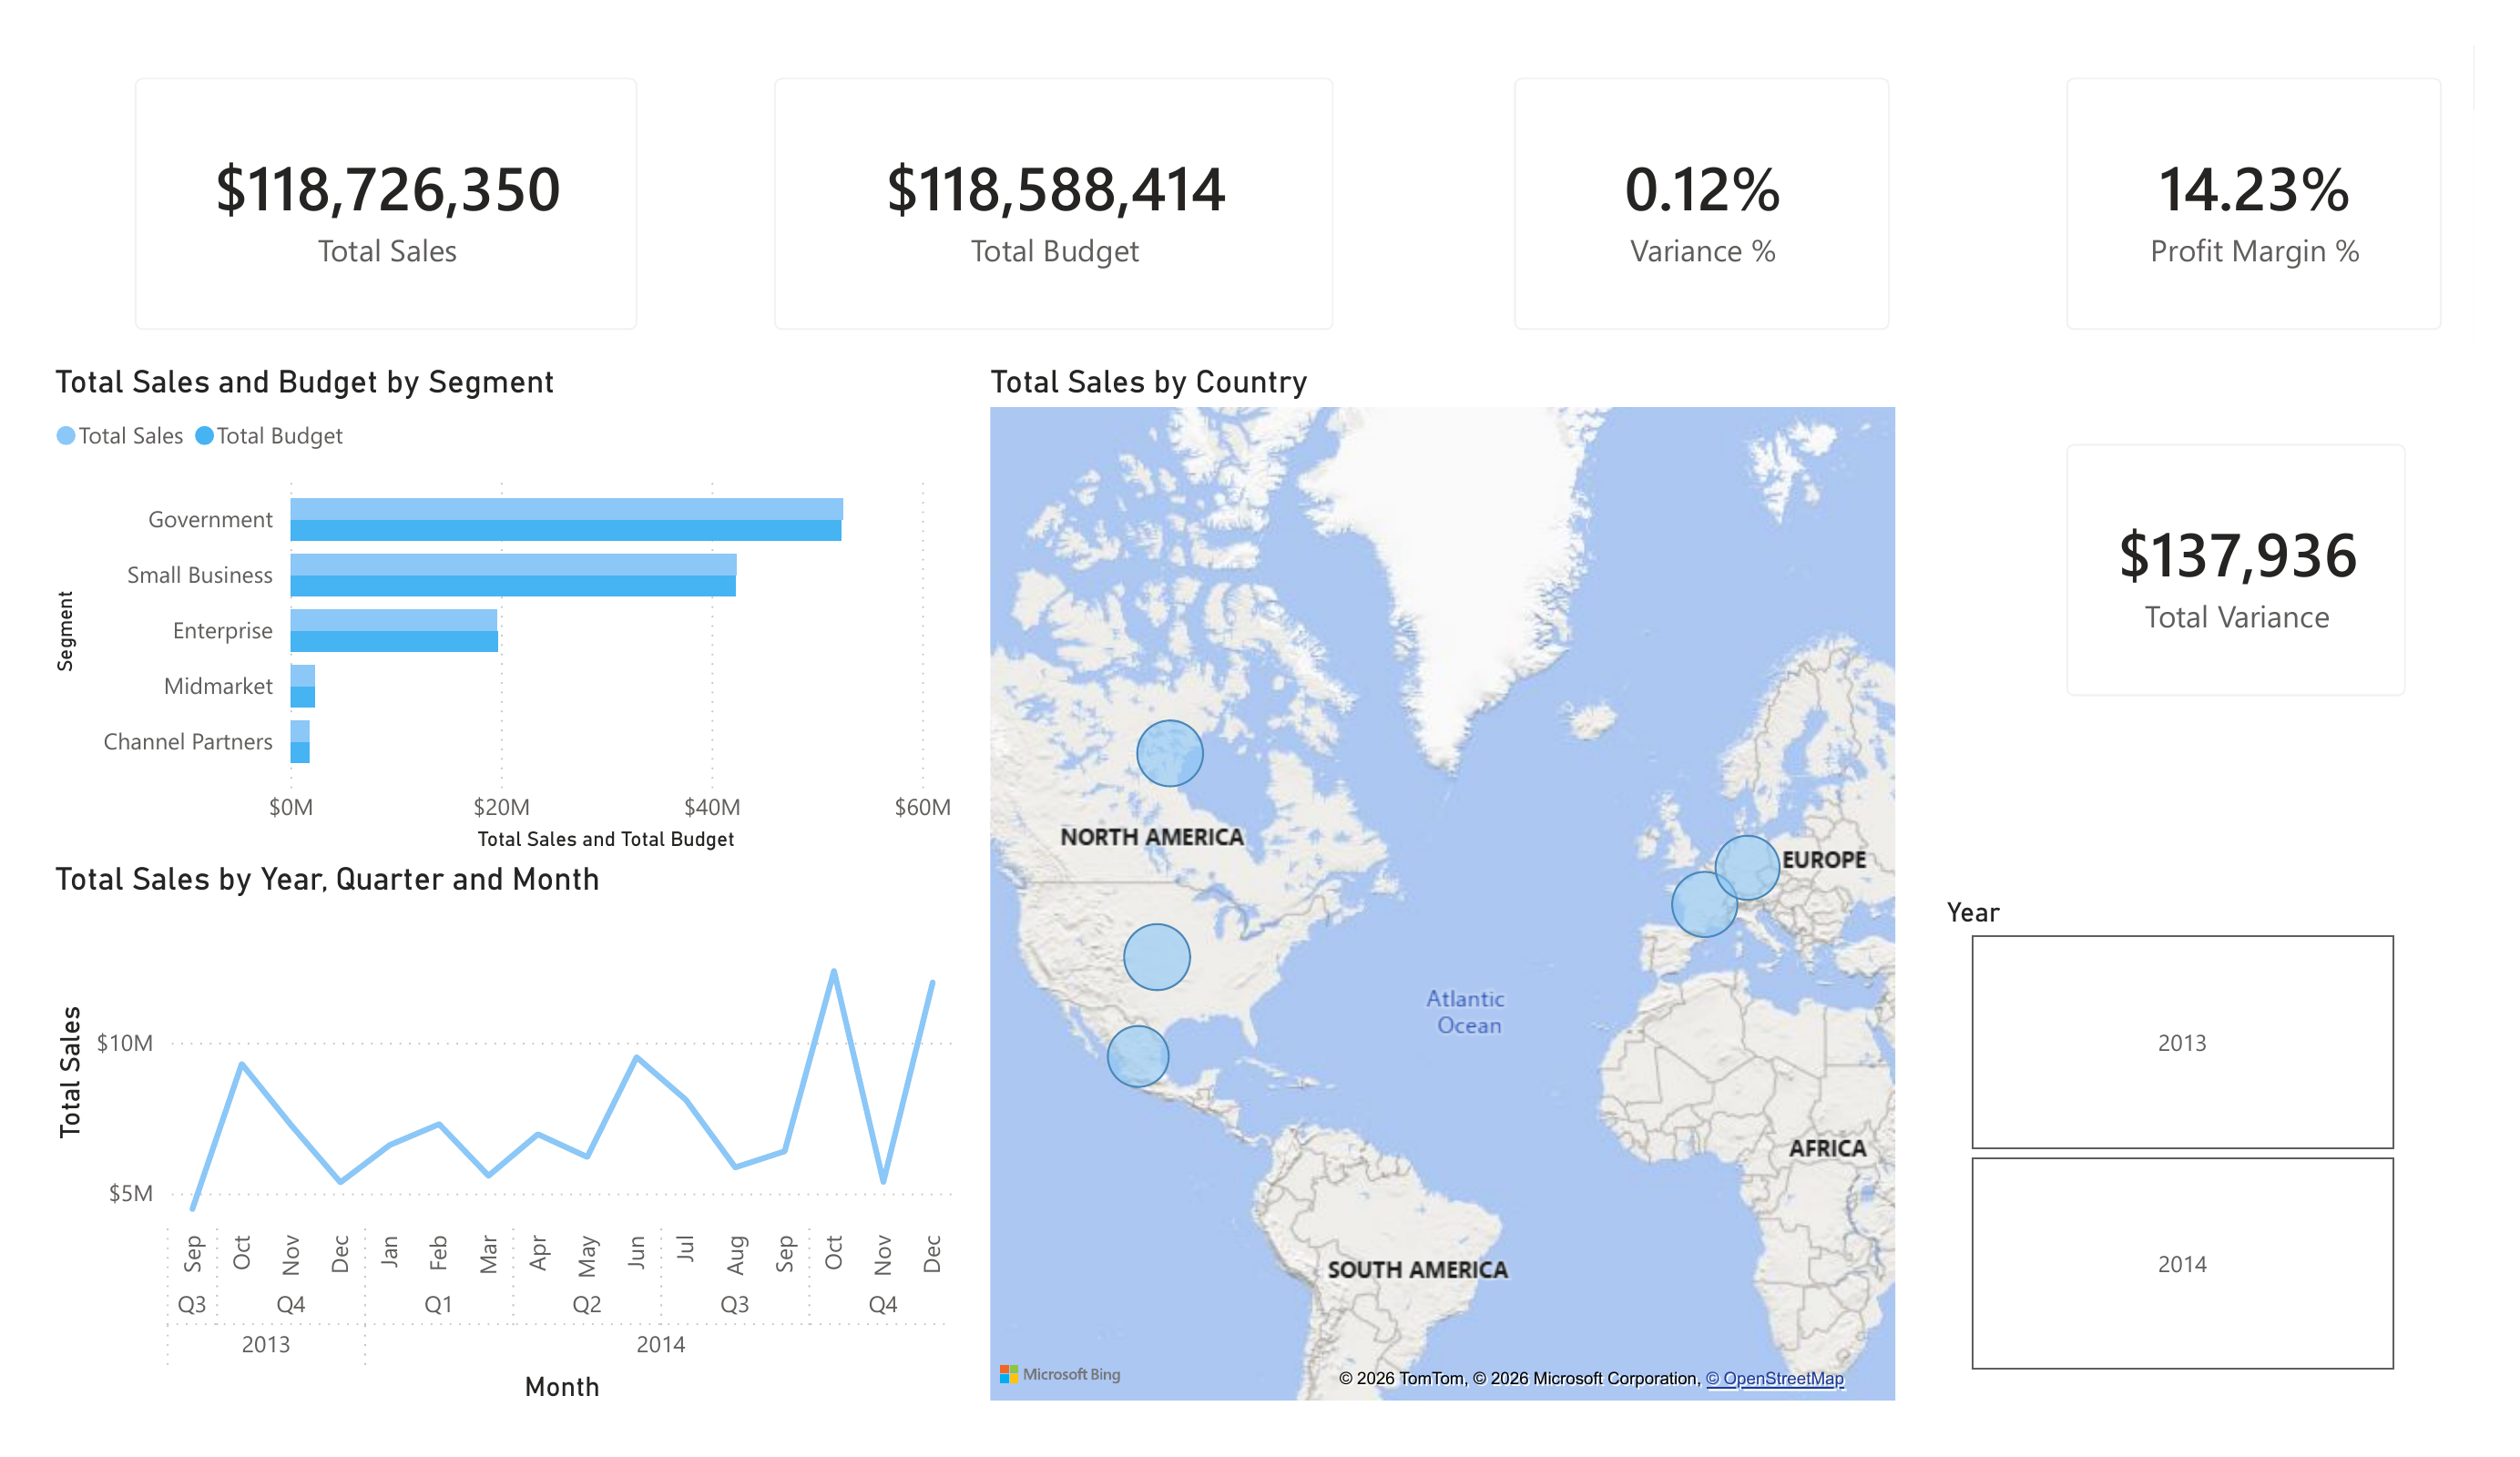

The page's visual inventory and layout, read from the dashboard file:
{"tool":"powerbi","page":{"name":"Overview","canvas":[1280,720],"ordinal":0},"visuals":[{"type":"cardVisual","fields":{"Data":["AllMeasures.Total Sales"]},"box":[30.2,0,299.6,167.3],"z":0},{"type":"cardVisual","fields":{"Data":["AllMeasures.Total Budget"]},"box":[366.7,0,329.7,167.3],"z":1},{"type":"cardVisual","fields":{"Data":["AllMeasures.Profit Margin %"]},"box":[1047.5,0,232.5,167.3],"z":2},{"type":"cardVisual","fields":{"Data":["AllMeasures.Variance %"]},"box":[756.7,0,232.5,167.3],"z":3},{"type":"clusteredBarChart","title":"Total Sales and Budget by Segment","fields":{"Y":["AllMeasures.Total Sales","AllMeasures.Total Budget"],"Category":["financials.Segment"]},"box":[0,167.3,483.4,261.6],"z":4},{"type":"lineChart","fields":{"Y":["AllMeasures.Total Sales"],"Category":["Dates.Year Hierarchy.Year","Dates.Year Hierarchy.Quarter","Dates.Year Hierarchy.Month","Dates.Year Hierarchy.Date"]},"box":[0,428.9,483.4,290.8],"z":5},{"type":"map","title":"Total Sales by Country","fields":{"Category":["financials.Country"],"Size":["Sum(financials.Sales)"]},"box":[493.1,167.3,487.3,552.5],"z":6},{"type":"slicer","fields":{"Values":["Dates.Year"]},"box":[989.2,444.5,272.3,260.7],"z":7},{"type":"cardVisual","fields":{"Data":["AllMeasures.Total Variance"]},"box":[1047.5,192.6,214,167.3],"z":8}]}

Visuals, with their boxes on the page's 1280x720 design canvas (x1, y1, x2, y2). These are canvas units, not pixel positions in the 2520x1457 screenshot, which may show the page scaled, cropped or inside an application window:
cardVisual - AllMeasures.Total Sales: detection(30, 0, 330, 167)
cardVisual - AllMeasures.Total Budget: detection(367, 0, 696, 167)
cardVisual - AllMeasures.Profit Margin %: detection(1048, 0, 1280, 167)
cardVisual - AllMeasures.Variance %: detection(757, 0, 989, 167)
"Total Sales and Budget by Segment" clusteredBarChart: detection(0, 167, 483, 429)
lineChart - AllMeasures.Total Sales x Dates.Year Hierarchy.Year: detection(0, 429, 483, 720)
"Total Sales by Country" map: detection(493, 167, 980, 720)
slicer - Dates.Year: detection(989, 444, 1262, 705)
cardVisual - AllMeasures.Total Variance: detection(1048, 193, 1262, 360)
